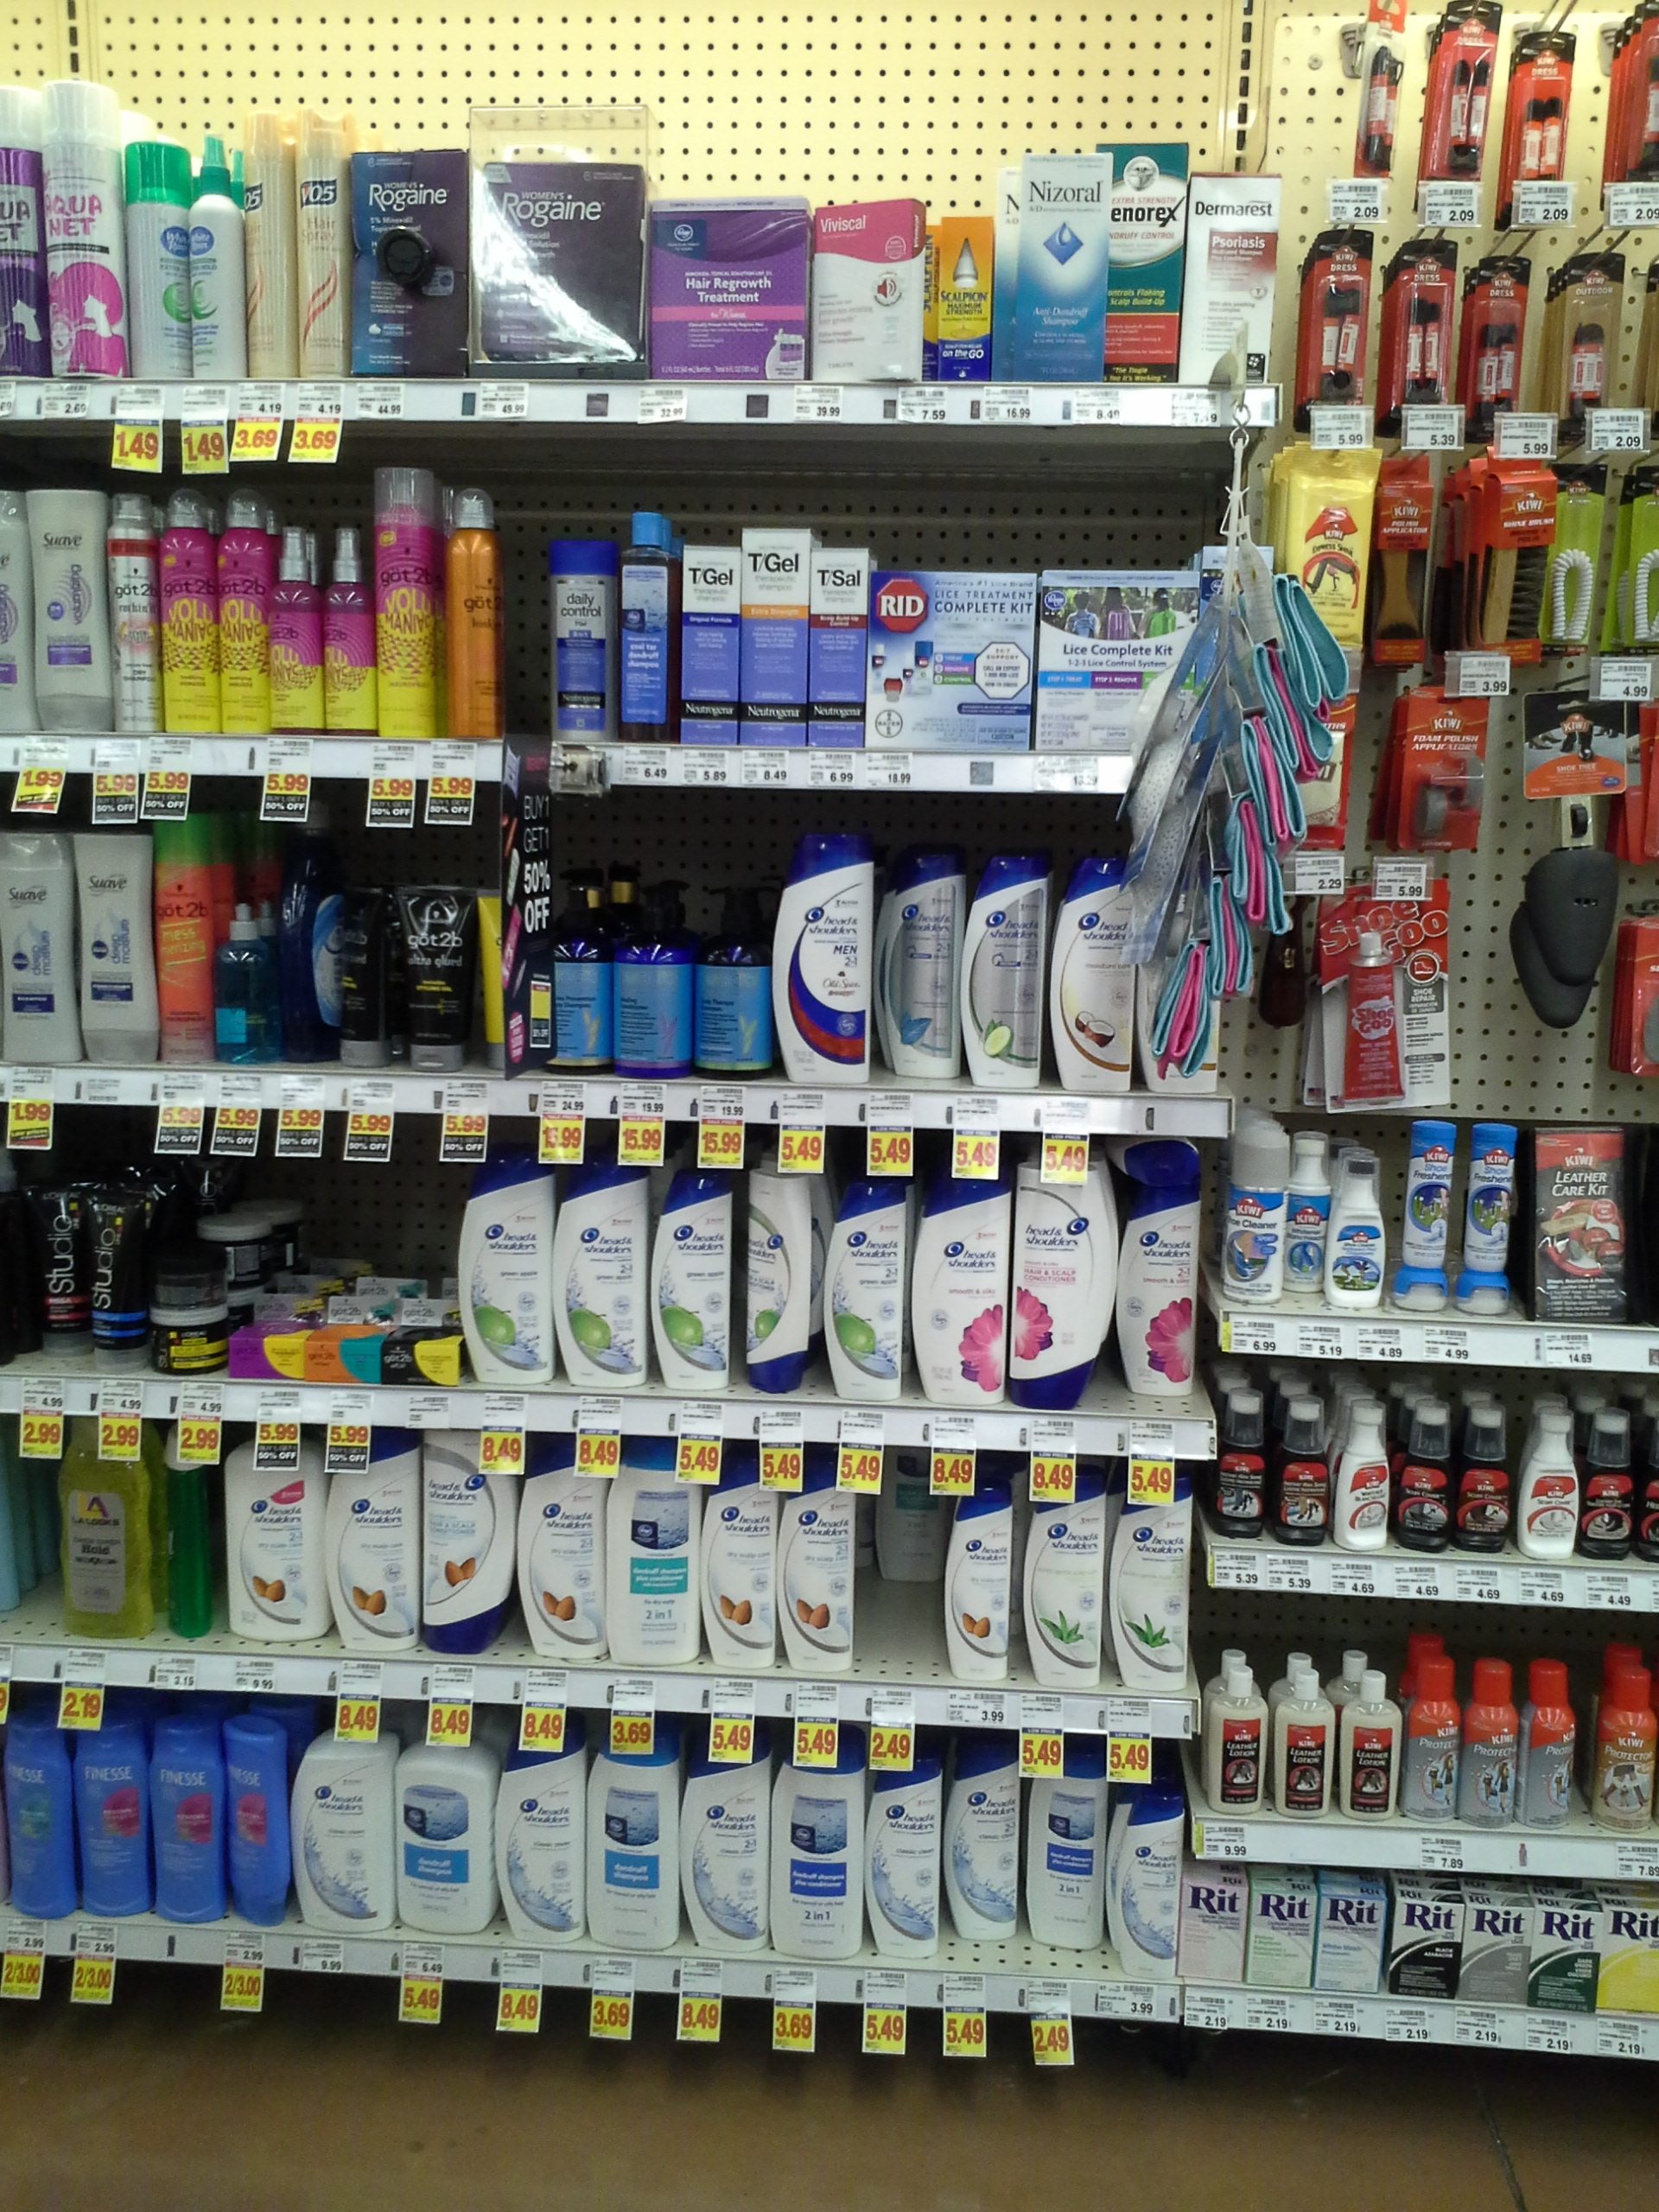Misplacement: (859, 1447, 945, 1681)
